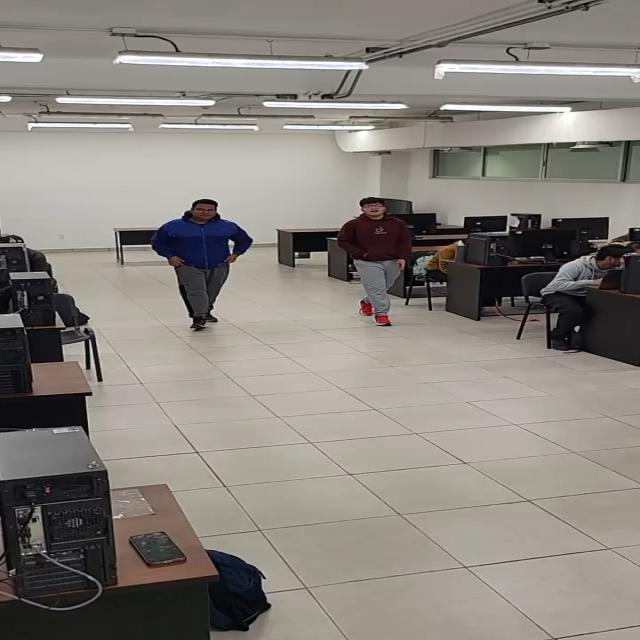Persona: (152, 198, 255, 329), (338, 196, 413, 326)
